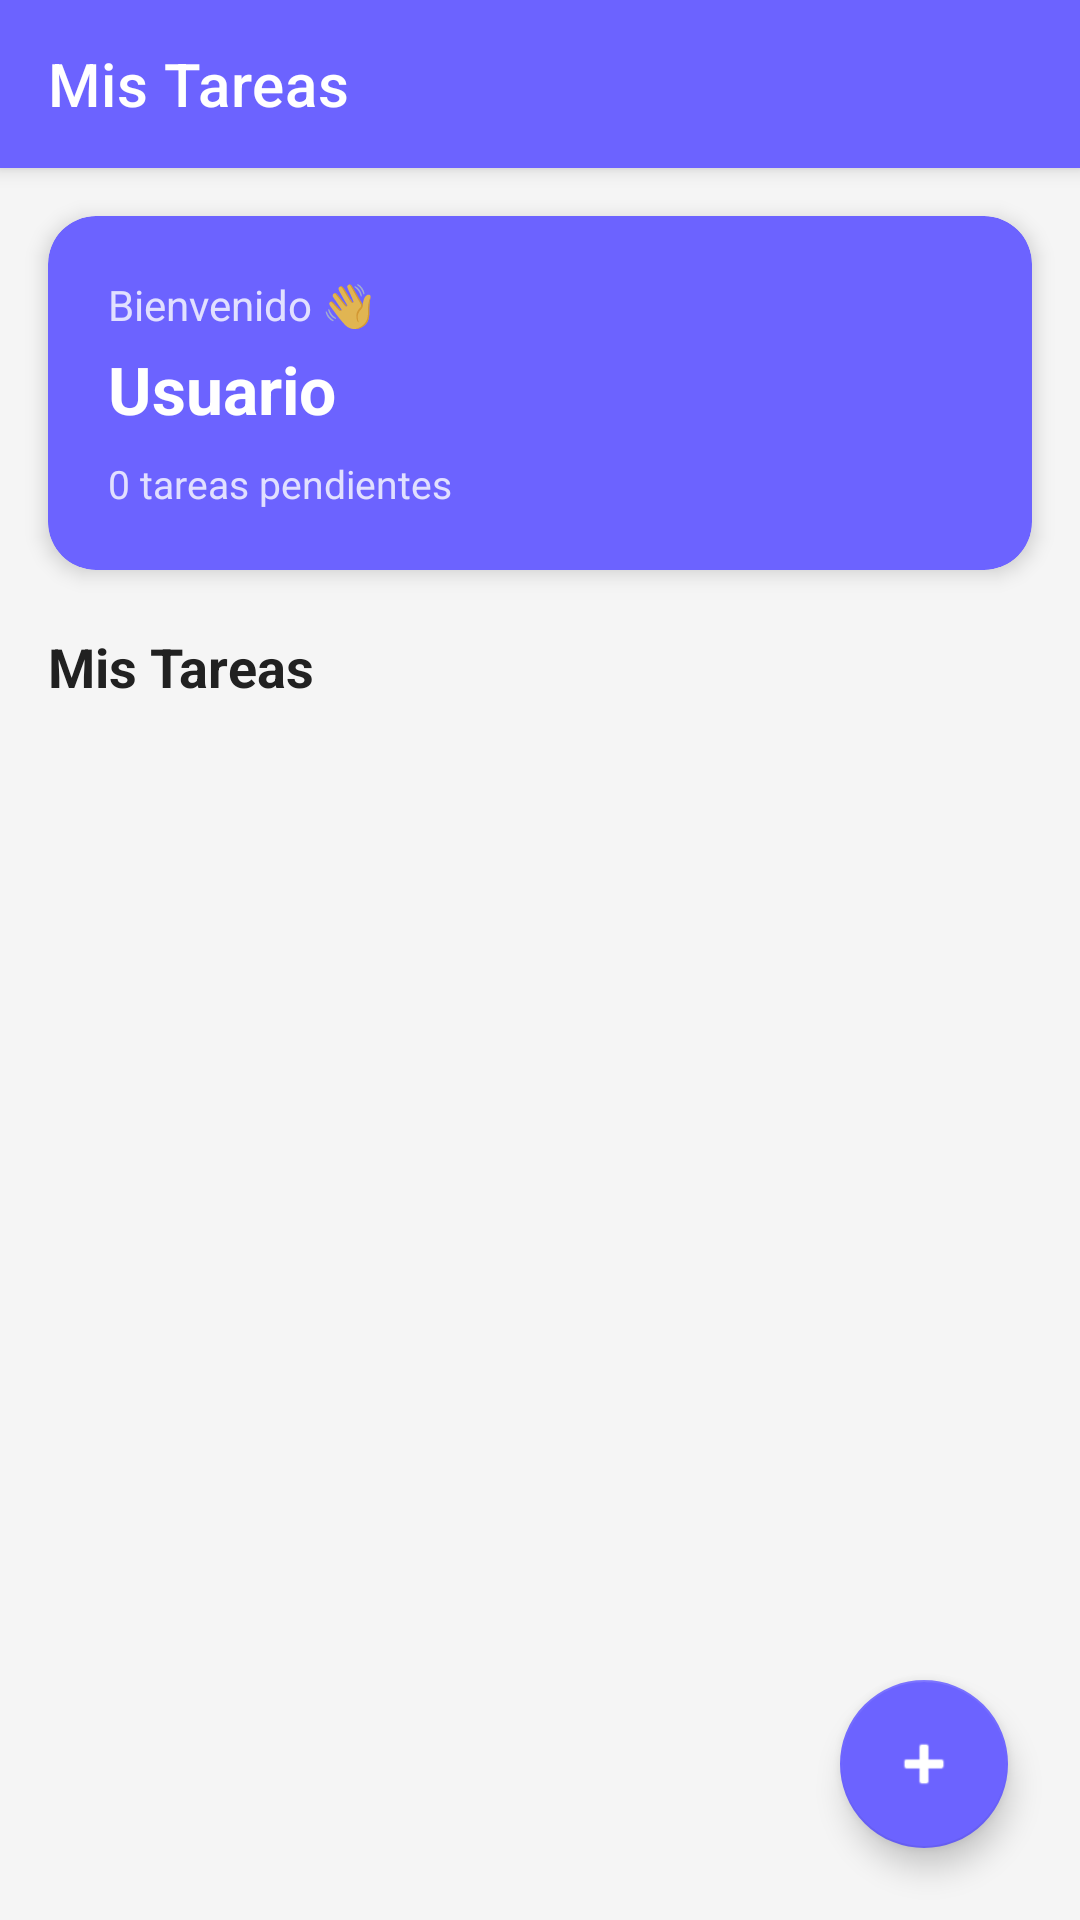

Where to tap for icons on this 1080w x 1920h app screen, as point (x, y):
Agregar tarea: point (924, 1764)
